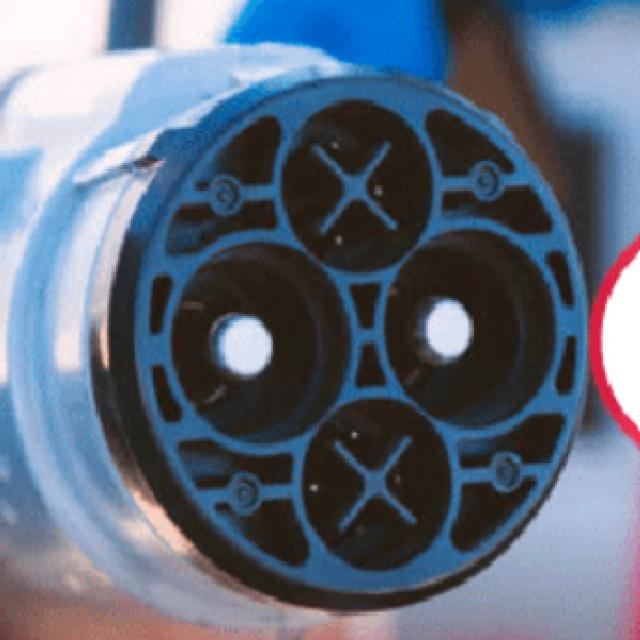CHAdeMO: (112, 58, 613, 625)
